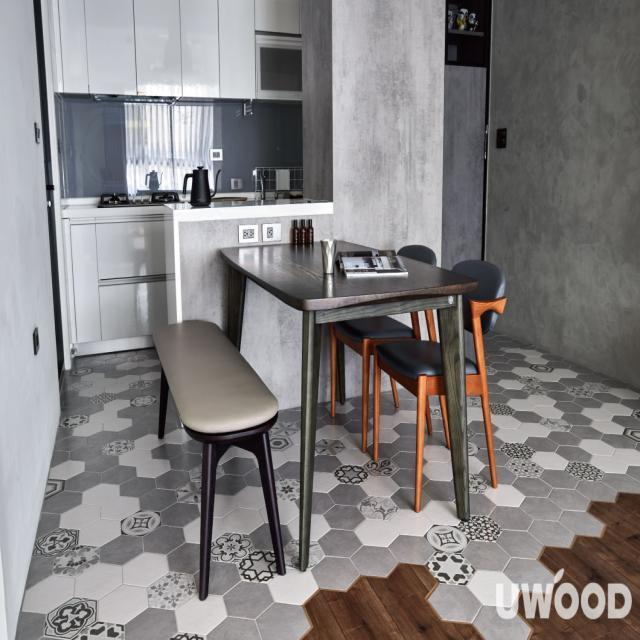table: (135, 211, 512, 602)
